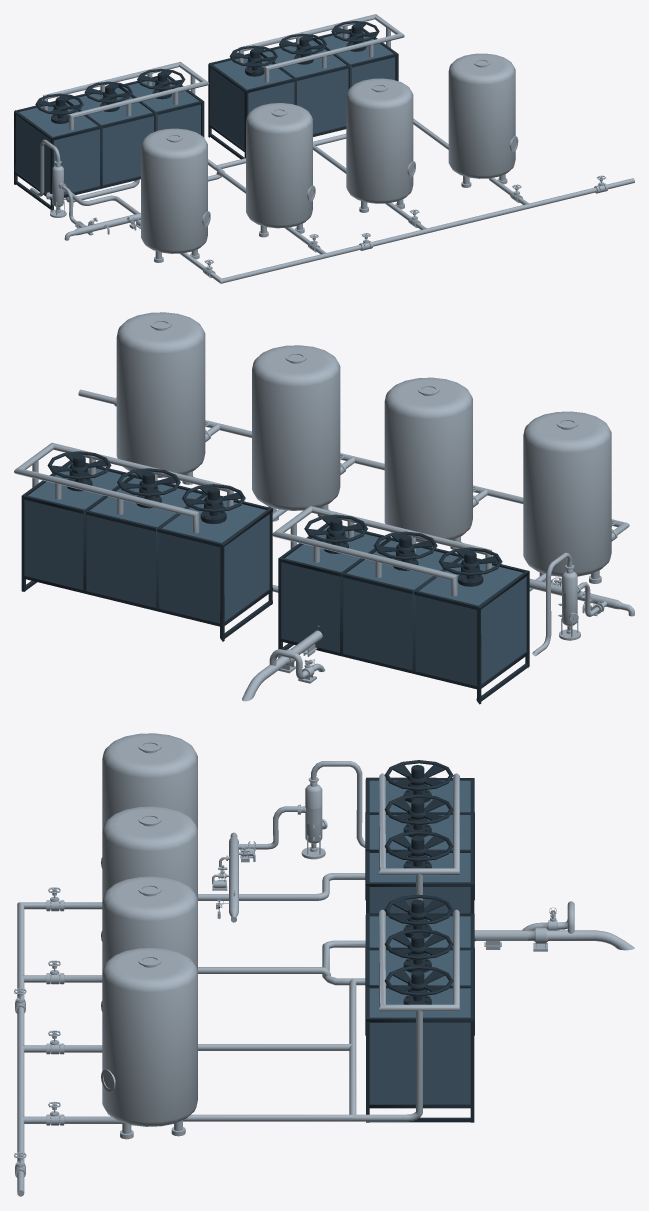
File: KYJ.glb
3 views of the same model, one above another, from view 1: azimuth 30°, elevation 25°; view 2: azimuth 150°, elevation 25°; view 3: azimuth 270°, elevation 25° (orthographic). The views are drawn at different scales.
Parts seen in each view (by area): view 1: KYJ-4, KYJ-002, KYJ-003, KYJ-001; view 2: KYJ-4, KYJ-002, KYJ-001, KYJ-003; view 3: KYJ-4, KYJ-003, KYJ-002, KYJ-001.
Boxes of the visible parts, x1,y1,x2,y2 form: KYJ-4: [141, 53, 518, 262]; KYJ-002: [16, 30, 395, 194]; KYJ-003: [30, 14, 634, 283]; KYJ-001: [14, 21, 398, 210]; KYJ-4: [116, 312, 611, 583]; KYJ-002: [24, 463, 526, 685]; KYJ-001: [21, 451, 529, 704]; KYJ-003: [14, 389, 634, 701]; KYJ-4: [101, 733, 197, 1139]; KYJ-003: [14, 761, 634, 1196]; KYJ-002: [369, 780, 470, 1104]; KYJ-001: [365, 760, 474, 1122].
Bounding box in the file's own units: 115 × 26.29 × 87.43.
